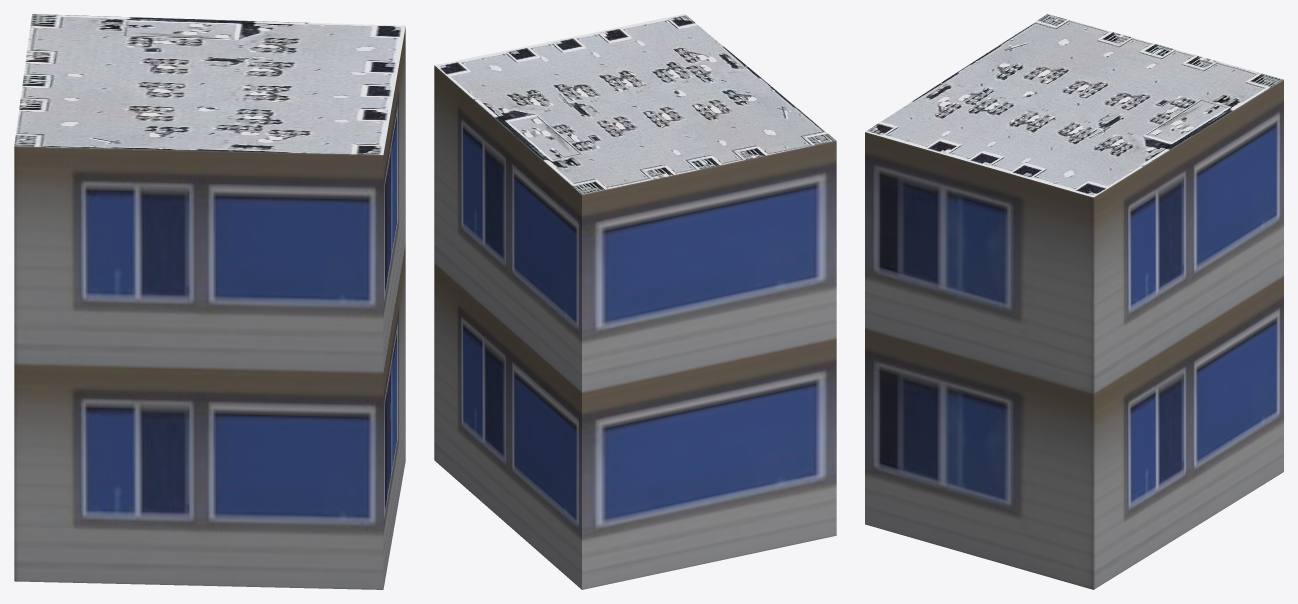
File: ResTex__1900.fbx
3 renders of one model, left to right at view 1: azimuth 30°, elevation 25°; view 2: azimuth 150°, elevation 25°; view 3: azimuth 270°, elevation 25°, orthographic. The views are drawn at different scales.
Visible parts, largest first — view 1: CityEngineMaterial_23_m, CityEngineMaterial_4_m; view 2: CityEngineMaterial_23_m, CityEngineMaterial_4_m; view 3: CityEngineMaterial_23_m, CityEngineMaterial_4_m.
Boxes of the visible parts, left/top/right/bottom form: CityEngineMaterial_23_m: left=14, top=27, right=405, bottom=589; CityEngineMaterial_4_m: left=14, top=14, right=405, bottom=154; CityEngineMaterial_23_m: left=434, top=65, right=836, bottom=589; CityEngineMaterial_4_m: left=434, top=14, right=835, bottom=194; CityEngineMaterial_23_m: left=865, top=80, right=1283, bottom=589; CityEngineMaterial_4_m: left=865, top=14, right=1283, bottom=197.
Bounding box in the file's own units: 6.02 × 6 × 5.81.
Materials: 2 (2 with a texture image).
